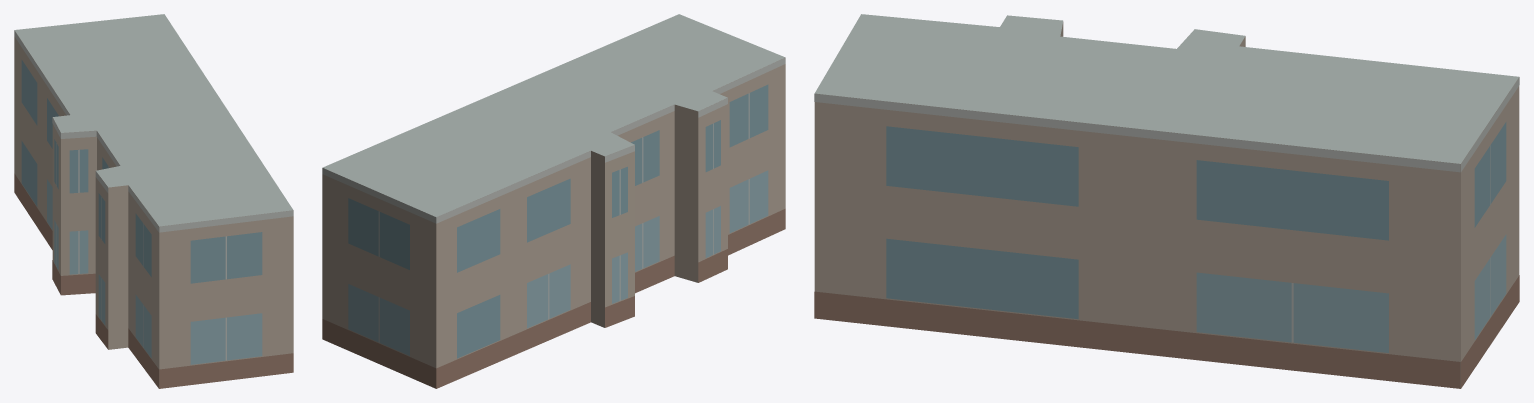
Rendered from survey-upis-33006993.glb.
3 views of the same model, side by side, from view 1: azimuth 30°, elevation 25°; view 2: azimuth 150°, elevation 25°; view 3: azimuth 270°, elevation 25° (orthographic). The views are drawn at different scales.
Visible parts, largest first — view 1: survey-upis-33006993.tmp; view 2: survey-upis-33006993.tmp; view 3: survey-upis-33006993.tmp.
Boxes of the visible parts, left/top/right/bottom form: survey-upis-33006993.tmp: left=14, top=14, right=293, bottom=388; survey-upis-33006993.tmp: left=322, top=14, right=785, bottom=388; survey-upis-33006993.tmp: left=814, top=14, right=1519, bottom=388.
Bounding box in the file's own units: 9.3 × 6.5 × 18.48.
